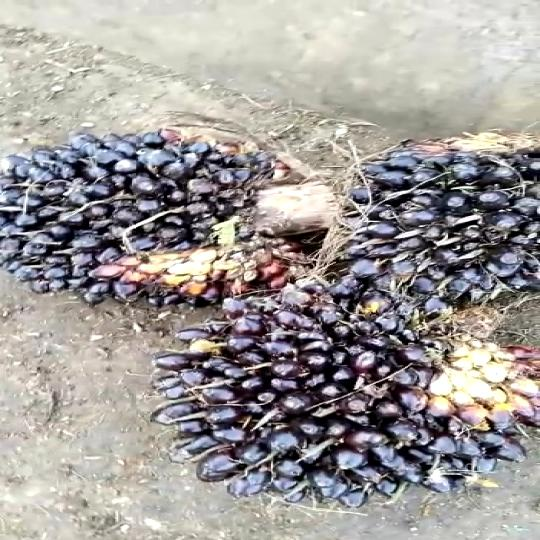mentah: (136, 284, 528, 517), (13, 112, 289, 307), (320, 119, 540, 333)
